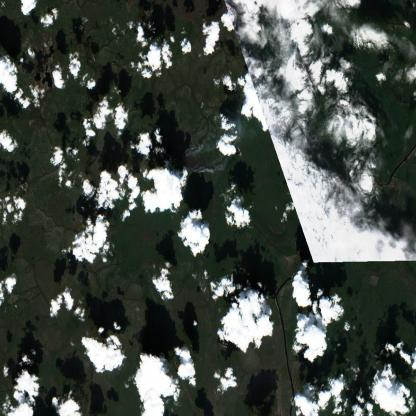fire: (176, 138, 215, 184)
